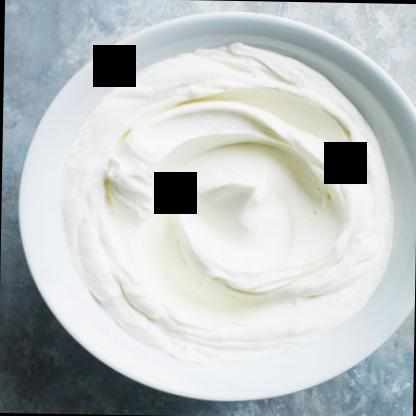yogurt: (57, 37, 398, 361)
